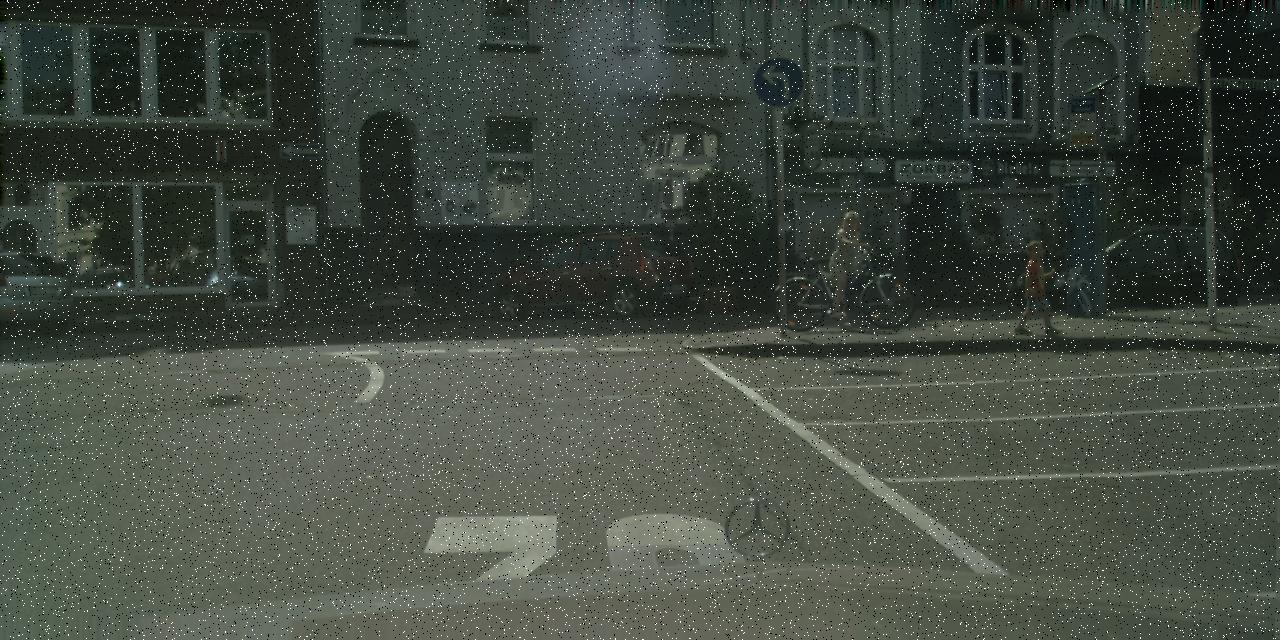ped: (823, 210, 869, 322), (1017, 240, 1055, 334)
